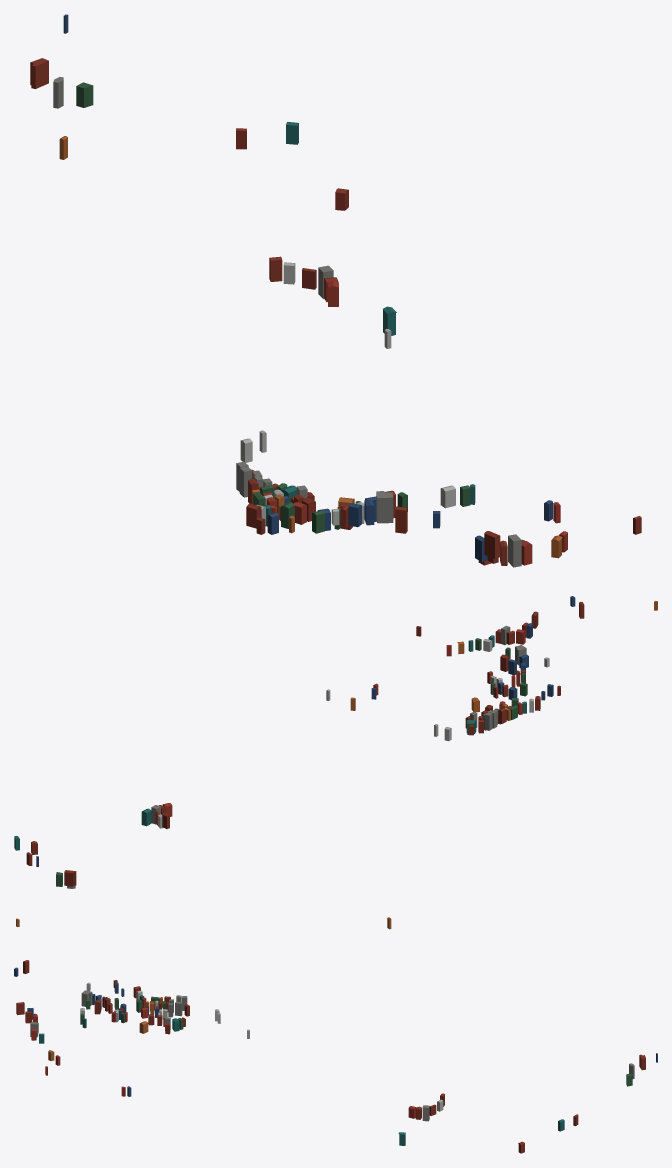
Rendered from near-15-27372-14865.eeb9e8ad.glb.
3 renders of one model, top to bottom at view 1: azimuth 30°, elevation 25°; view 2: azimuth 150°, elevation 25°; view 3: azimuth 270°, elevation 25°, orthographic. The views are drawn at different scales.
Bounding box in the file's own units: 565 × 277 × 1120.
